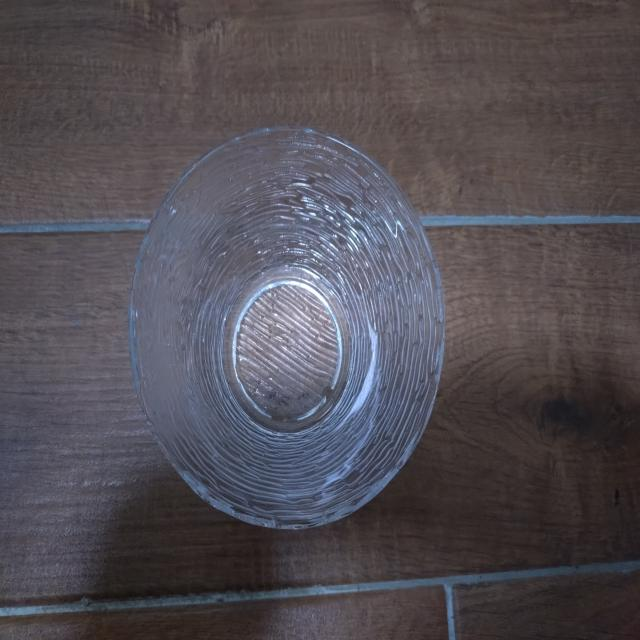Dry Waste: (123, 119, 453, 540)
